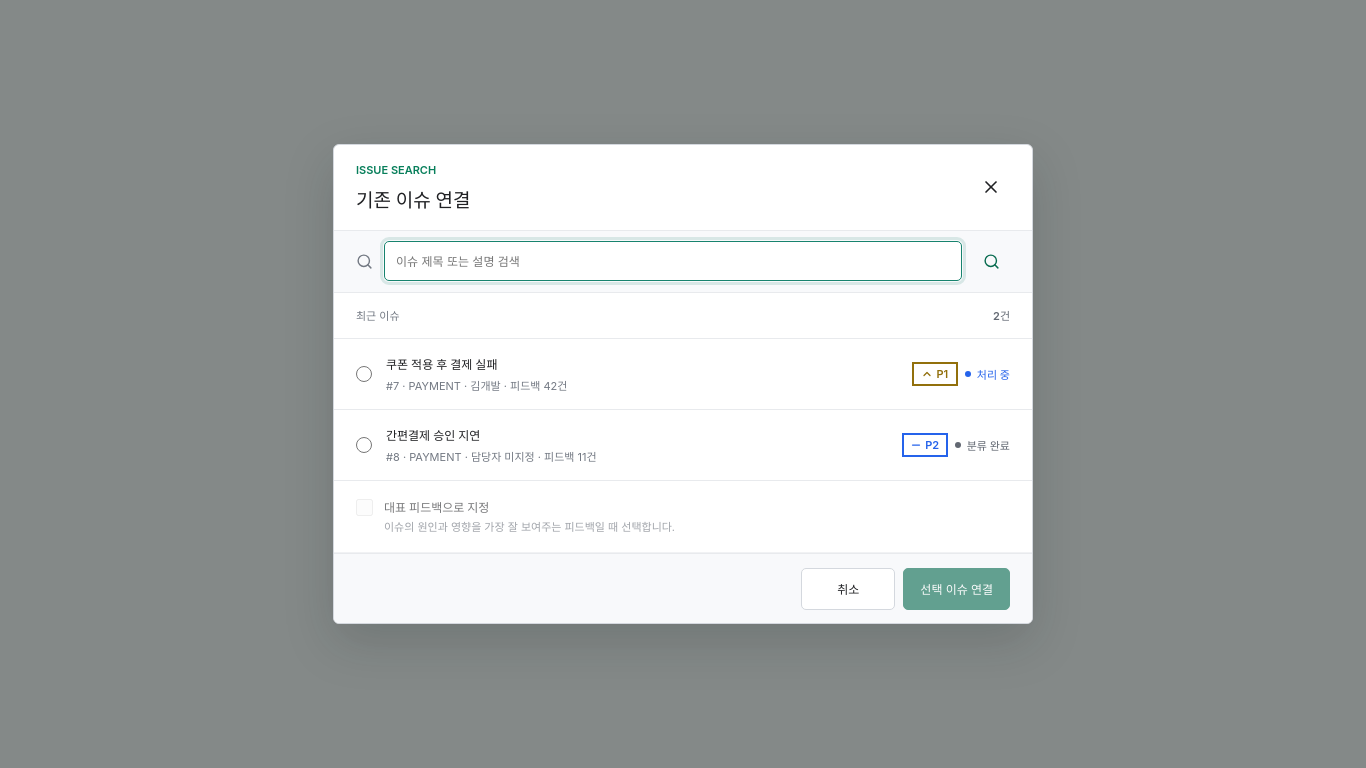
Test: IssueLinkDialog › keeps the dialog open when the link request is rejected
The width and height of the screenshot is (1366, 768).
Click the radio button labelled "간편결제 승인 지연 #8 · PAYMENT · 담당자 미지정 · 피드백 11건 P2 분류 완료" at x=364, y=445, box [356,437,372,453]
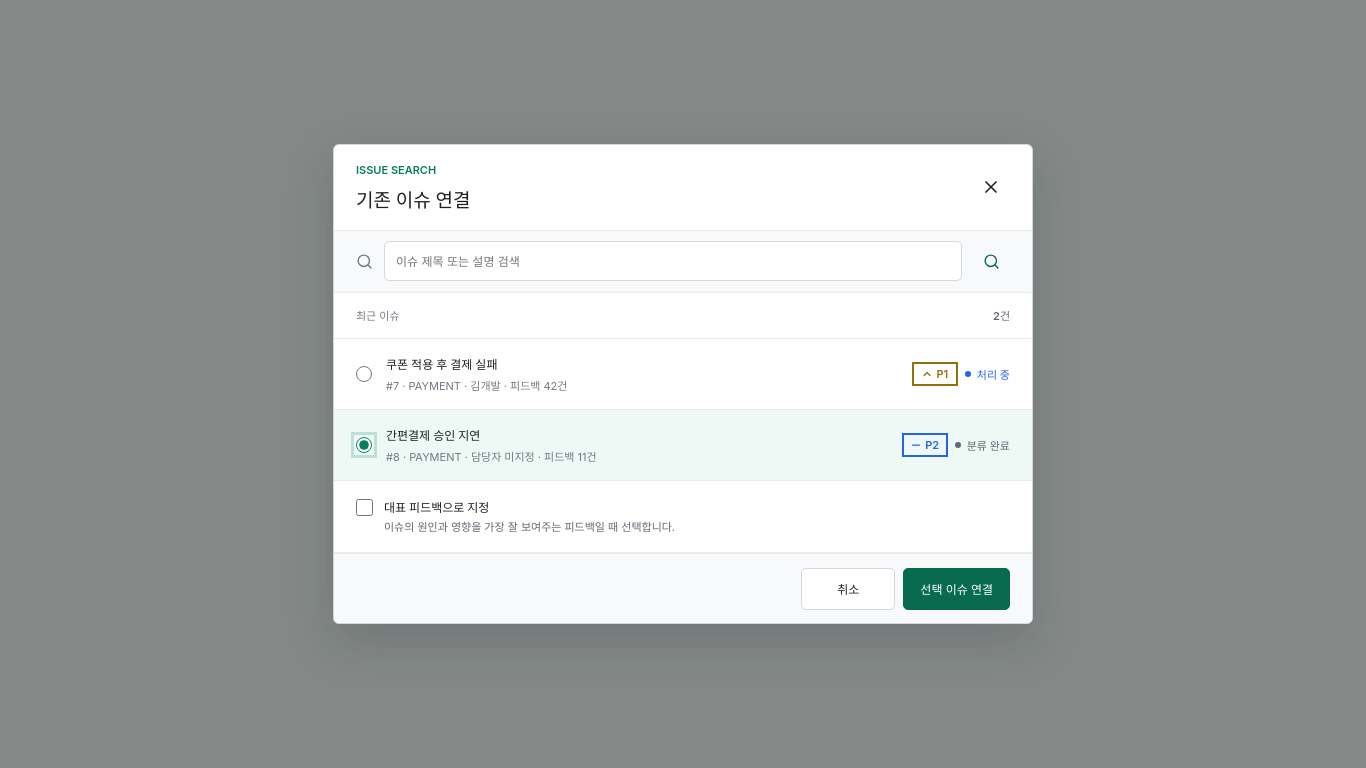
Click the button "선택 이슈 연결" at x=957, y=589, box [903,568,1010,610]
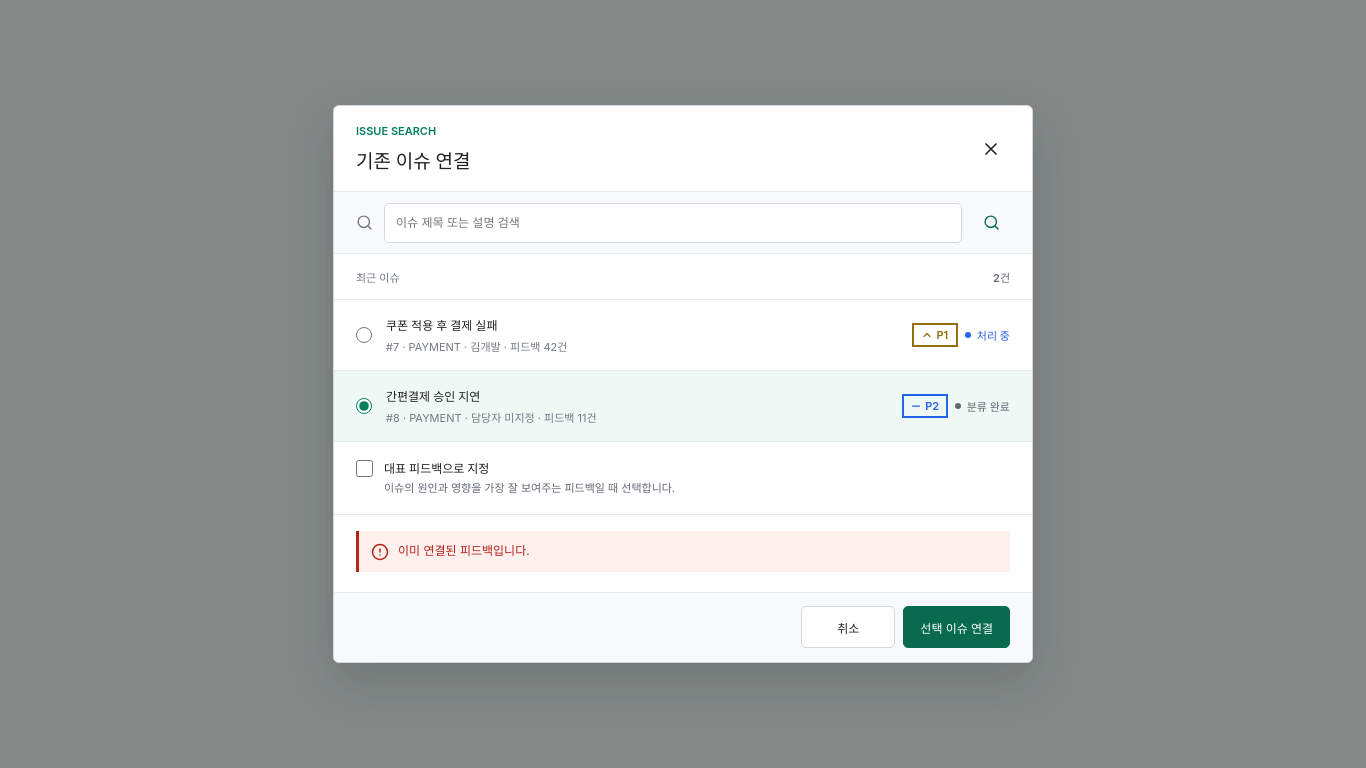
Expected: the dialog "기존 이슈 연결" is shown, [333,105,1033,663]
Now the message reads "이미 연결된 피드백입니다.", box [398,543,530,558]
